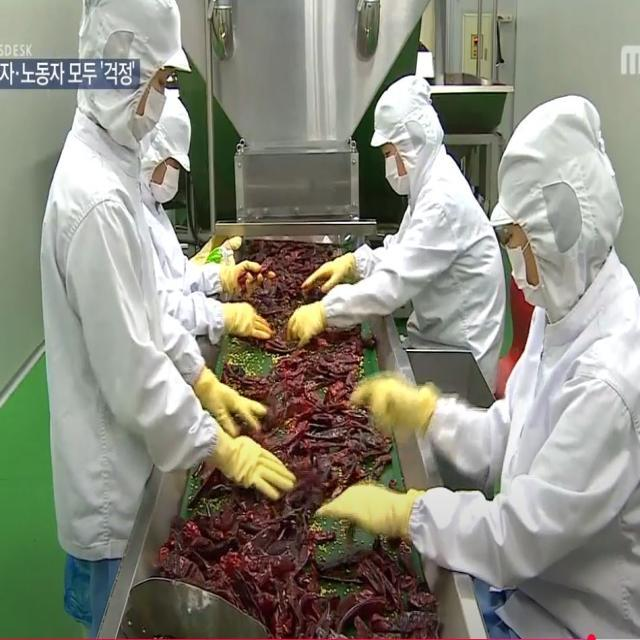gloved_hand: (310, 475, 424, 546), (343, 368, 444, 445), (207, 431, 298, 504), (192, 365, 270, 435), (301, 243, 361, 295), (214, 298, 276, 347), (219, 257, 277, 302), (282, 297, 330, 348)
